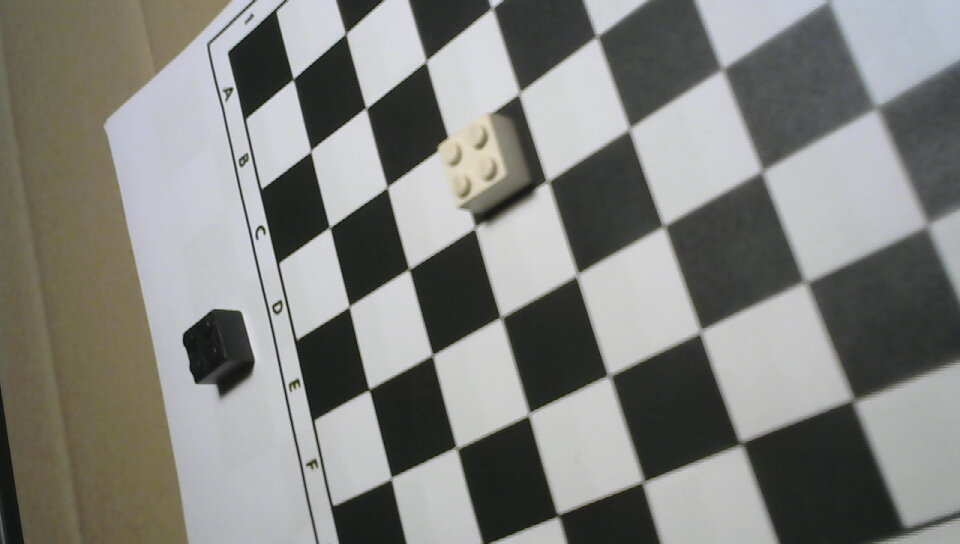wp: (432, 106, 539, 218)
